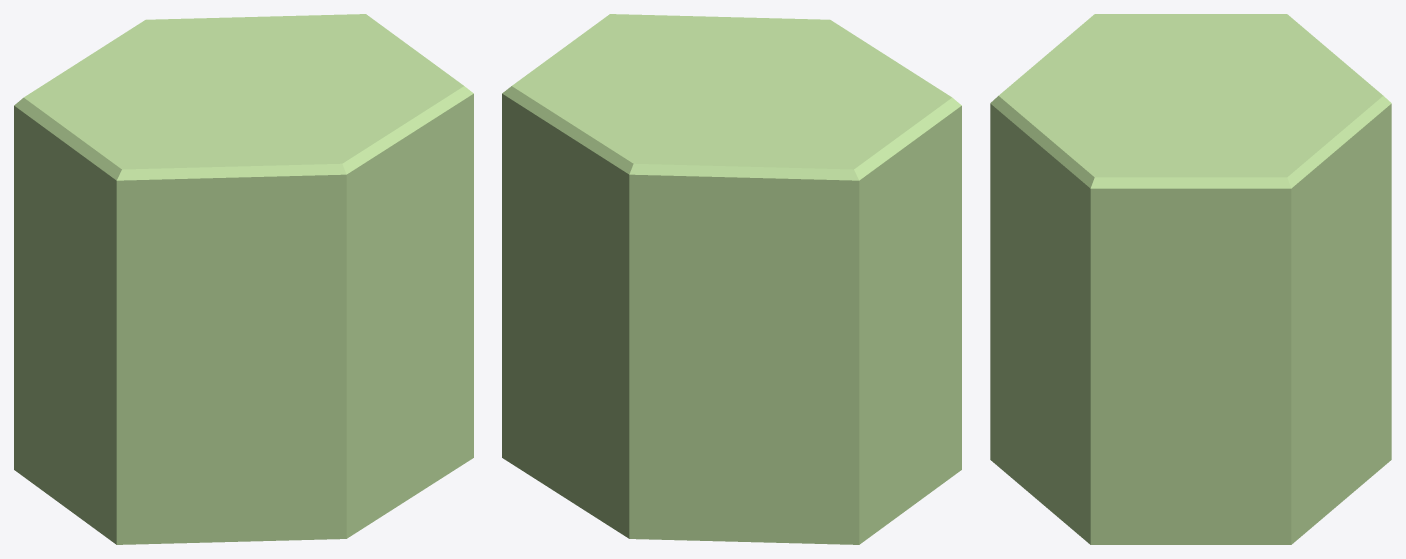
The model's file is hexatile.fbx.
The picture shows the model from 3 angles, left to right: view 1: azimuth 30°, elevation 25°; view 2: azimuth 150°, elevation 25°; view 3: azimuth 270°, elevation 25°; orthographic projection. The views are drawn at different scales.
Parts seen in each view (by area): view 1: hexatile; view 2: hexatile; view 3: hexatile.
Boxes of the visible parts, x1,y1,x2,y2 form: hexatile: (14, 14, 473, 544); hexatile: (502, 14, 961, 544); hexatile: (990, 14, 1391, 544).
Bounding box in the file's own units: 100 × 100 × 100.
